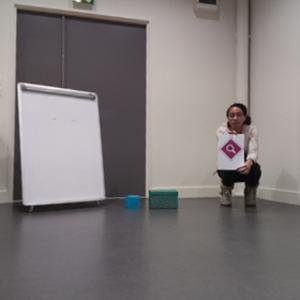search: (221, 137, 242, 160)
